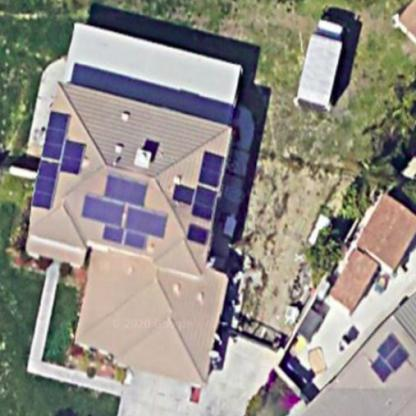car: (295, 7, 350, 115)
solar_panel: (76, 162, 172, 259), (166, 129, 223, 261), (34, 104, 85, 211), (363, 322, 407, 385)
